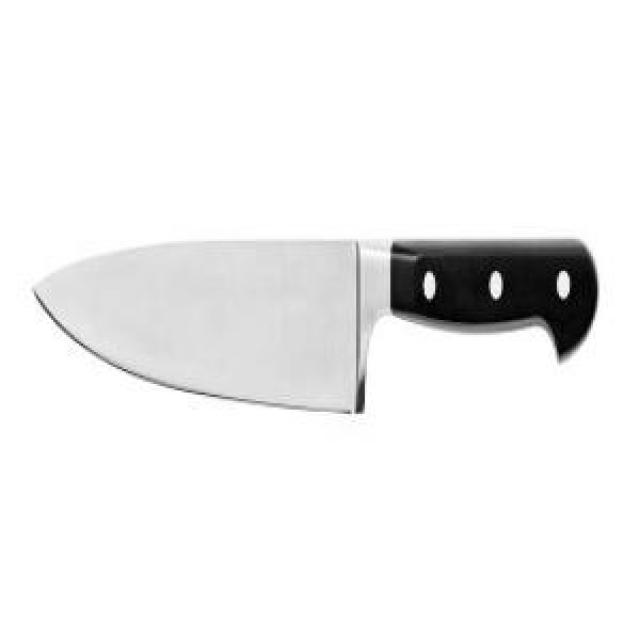knife: (30, 237, 621, 424)
